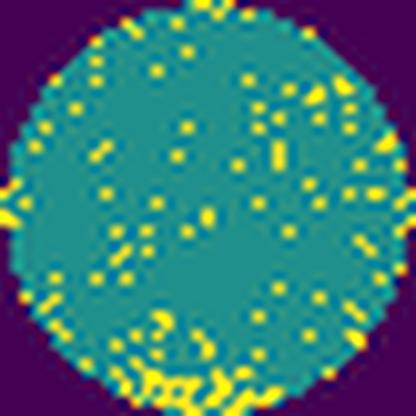Edge-Loc: (103, 349, 288, 415)
